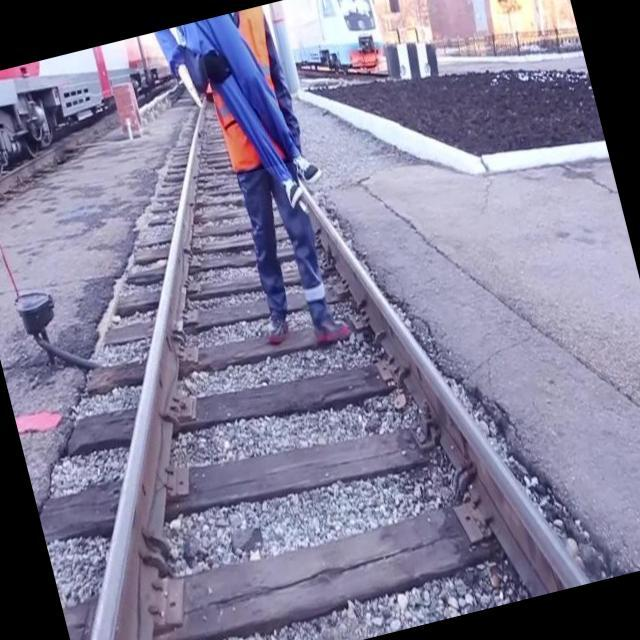Person: (188, 0, 360, 351)
Safety Boot: (304, 276, 352, 343), (253, 289, 295, 344)
Safety Vest: (194, 5, 301, 176)
